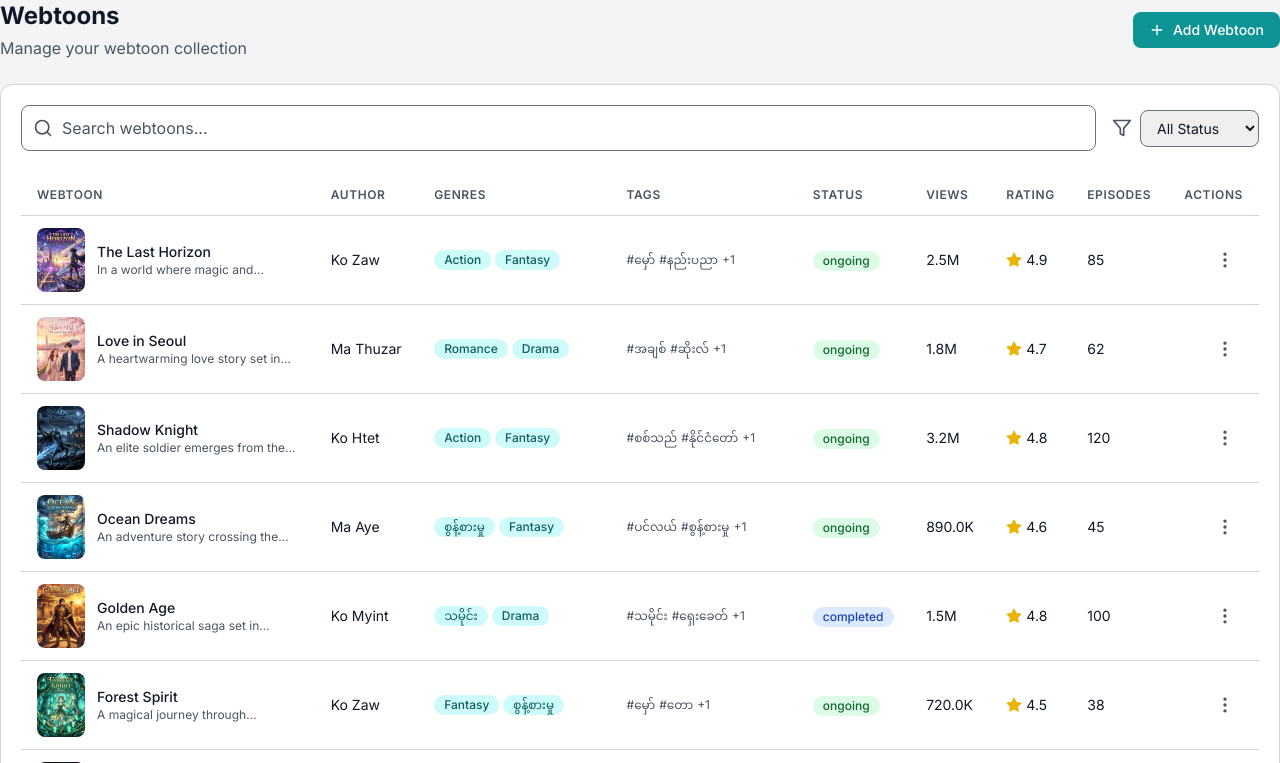
Test: WebtoonsPage › keeps the delete confirm modal
This screenshot has width=1280, height=763.
Step 1. Click the button named "Webtoon actions menu" in the row of "The Last Horizon" → (1225, 260), box [1207,242,1243,278]
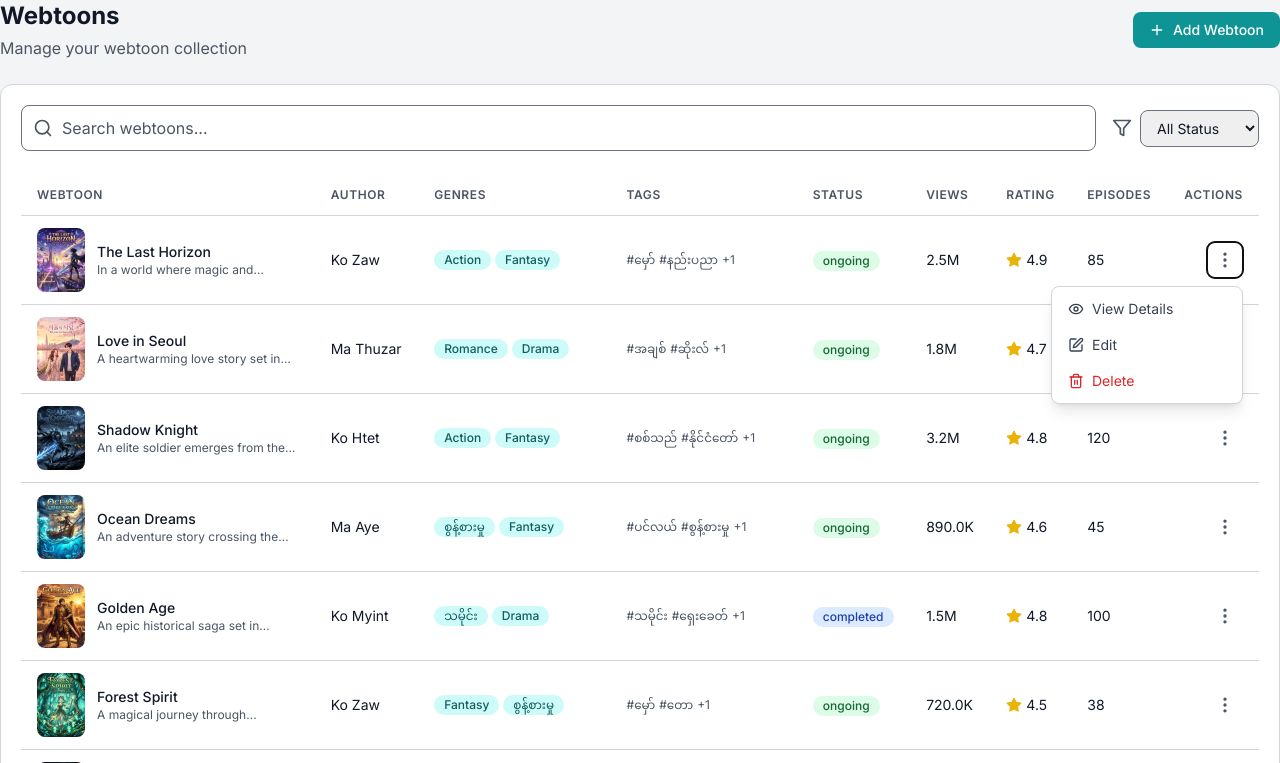
Step 2. Click the button "Delete" → (1147, 381), box [1052,363,1242,399]
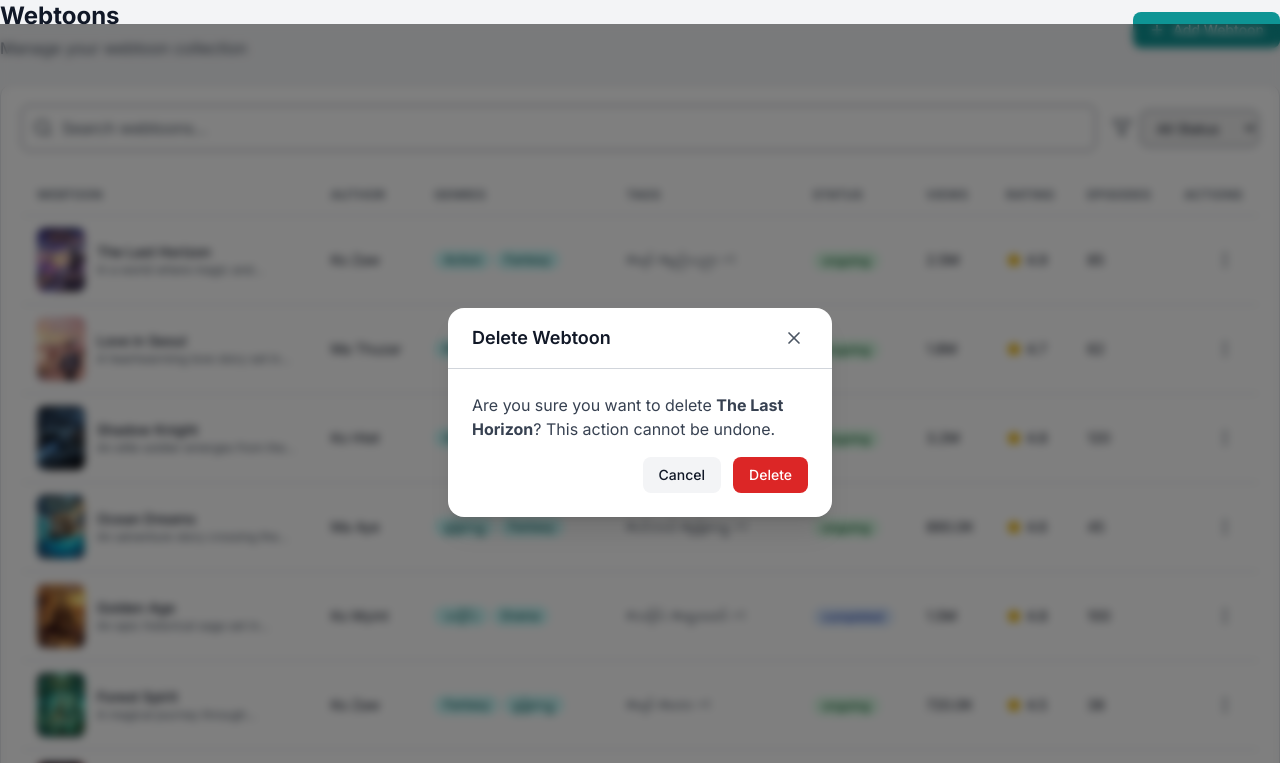
Expected: the heading "Delete Webtoon" is shown, [472,324,611,352]
Expected: the button named "close modal" is shown, [780,324,808,352]
